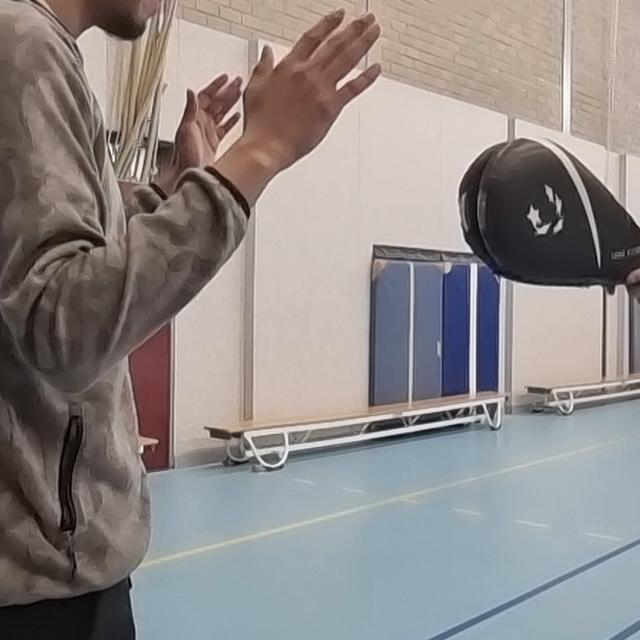paddle: (448, 129, 640, 289)
